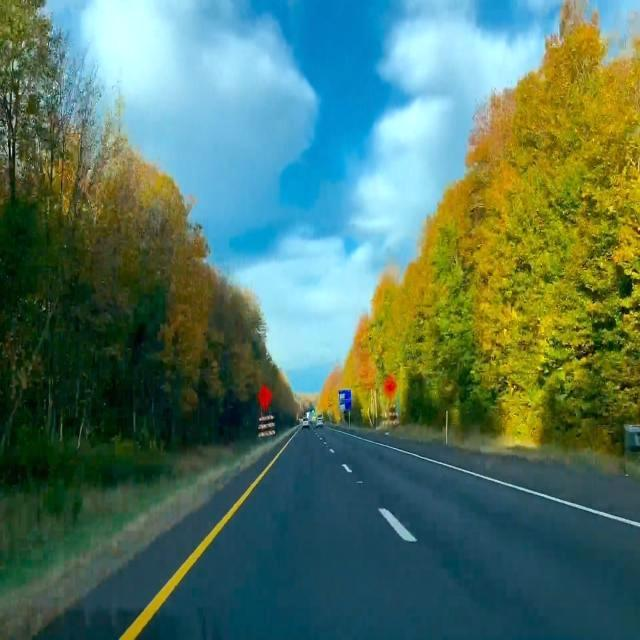road: (138, 427, 639, 639), (35, 452, 273, 639), (374, 436, 639, 520)
